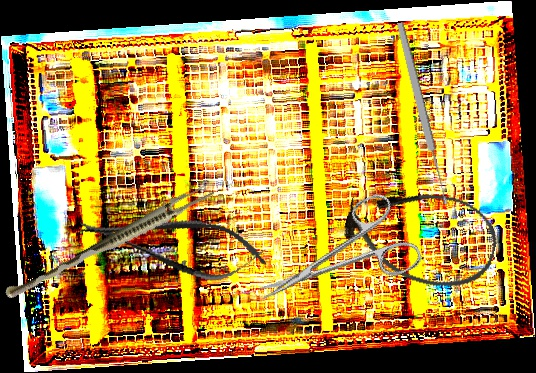Cannula: (335, 169, 506, 301)
Iris Scissors: (242, 187, 425, 330)
Micro Scissor: (73, 194, 273, 293)
Surgical Spoon: (394, 21, 451, 206)
Tissue Forceps: (3, 177, 217, 308)
